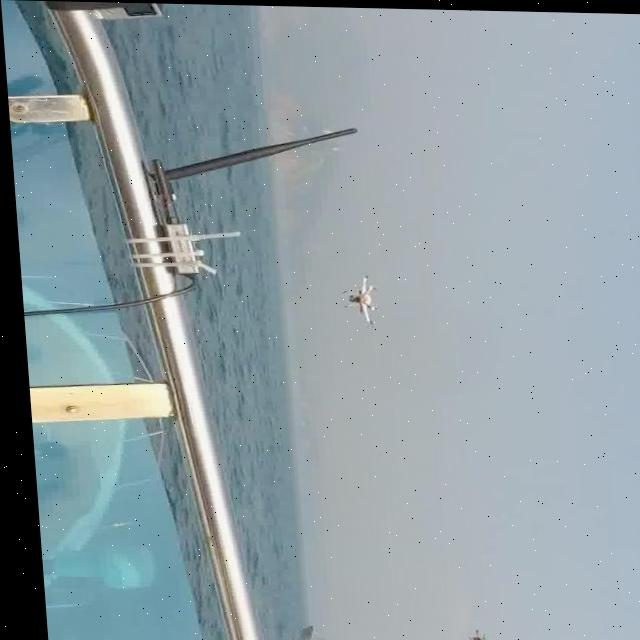drone: (448, 623, 493, 640)
